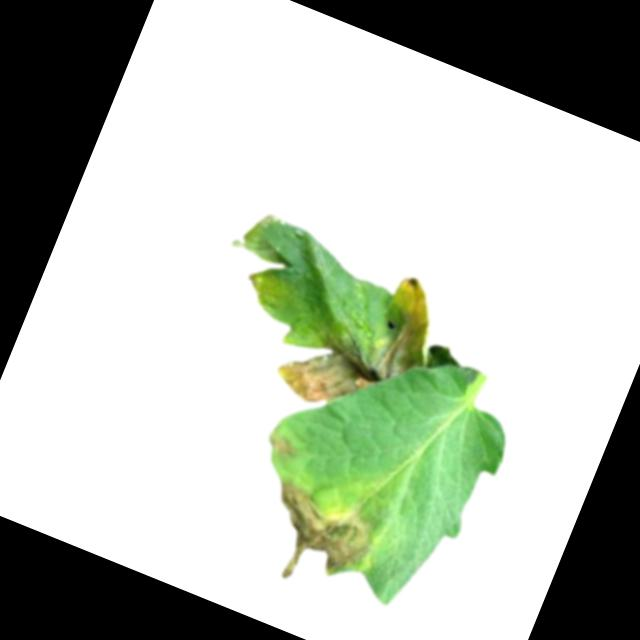Late_blight: (270, 242, 473, 448), (247, 476, 387, 610), (266, 432, 301, 464)
